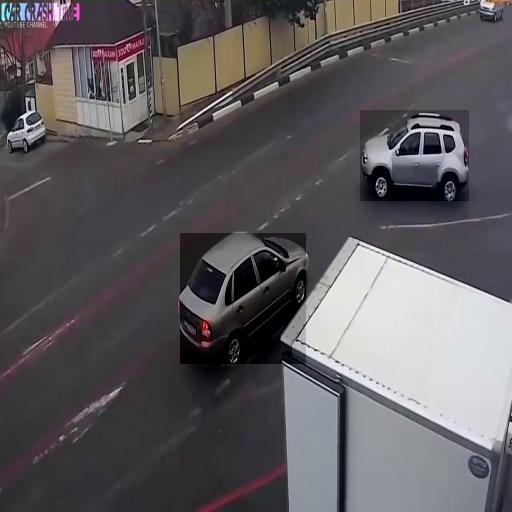小汽车: (180, 233, 306, 364), (360, 110, 469, 201), (7, 108, 48, 149)
